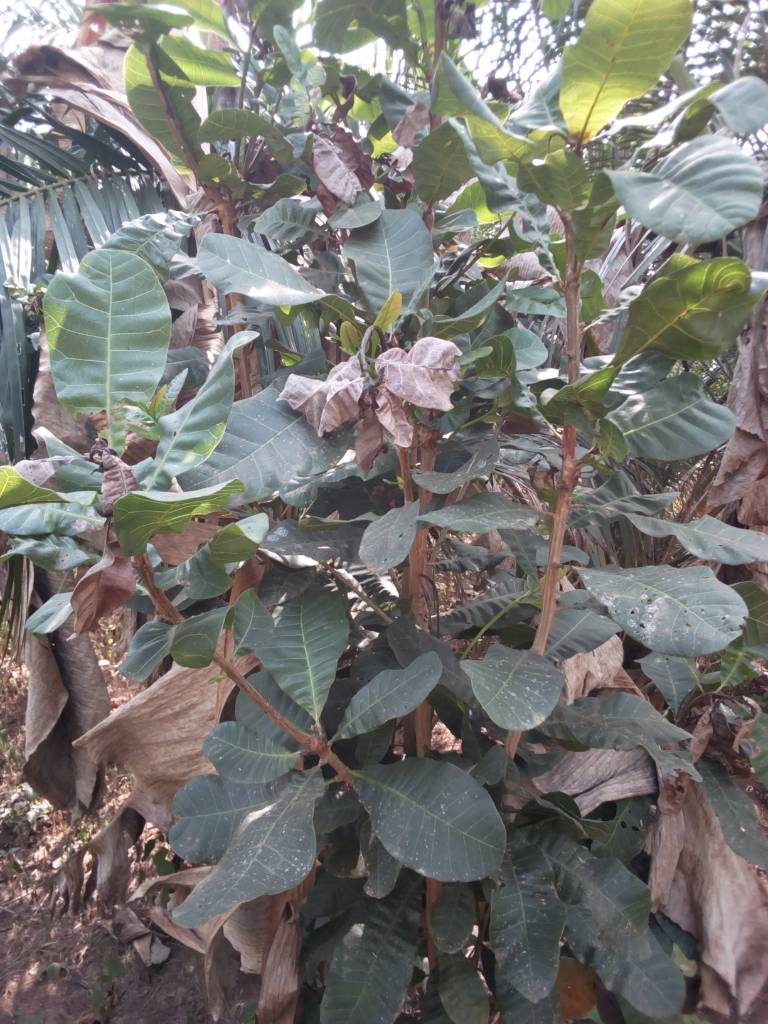Dessèchement des bourgeons: (333, 347, 436, 437)
